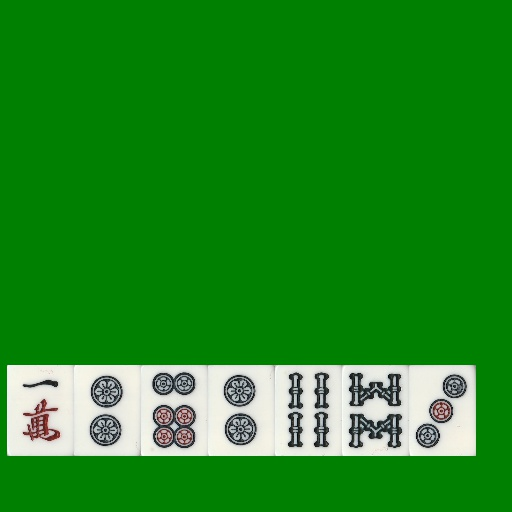1m: (7, 365, 74, 456)
2p: (74, 365, 141, 456), (208, 365, 275, 456)
3p: (409, 365, 476, 456)
4s: (275, 365, 342, 456)
6p: (141, 365, 208, 456)
8s: (342, 365, 409, 456)
